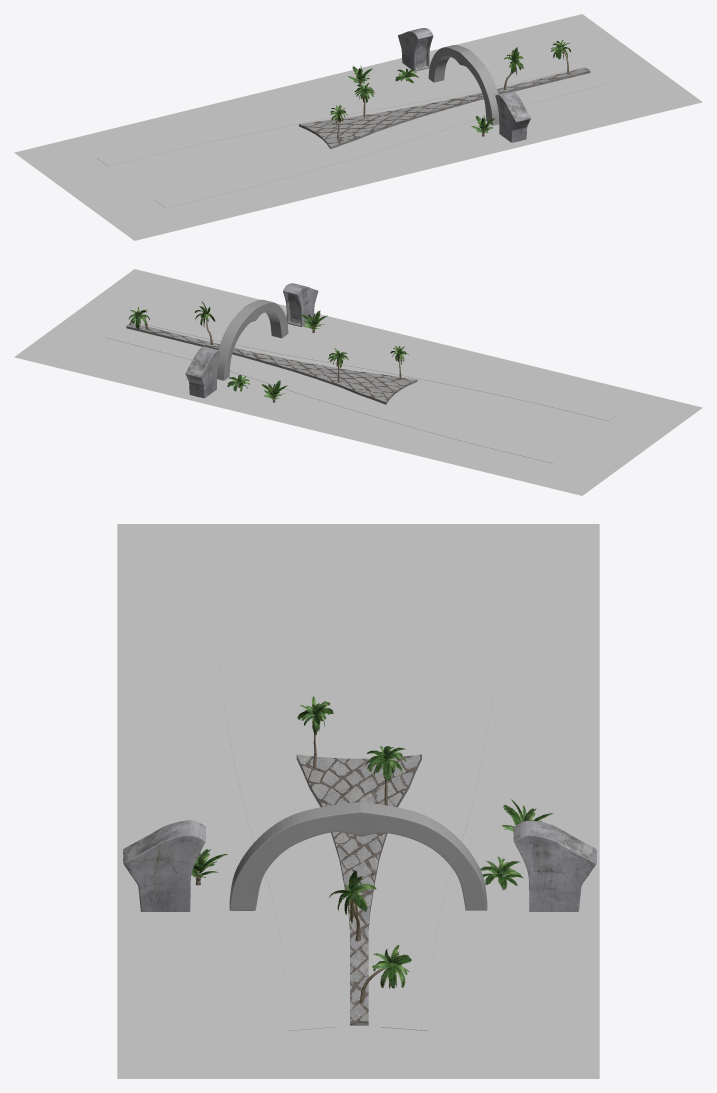
The model's file is americana.obj.
3 renders of one model, top to bottom at view 1: azimuth 30°, elevation 25°; view 2: azimuth 150°, elevation 25°; view 3: azimuth 270°, elevation 25°, orthographic. The views are drawn at different scales.
Parts seen in each view (by area): view 1: Plane, Plane.002, Plane.001, Cube.002_Cube.007, Cylinder, Cube_Cube.003, Cube.001_Cube.005; view 2: Plane, Plane.001, Plane.002, Cube.002_Cube.007, Cylinder, Cube.001_Cube.005, Cube_Cube.003; view 3: Plane, Plane.001, Plane.002, Cylinder, Cube.002_Cube.007, Cube.001_Cube.005, Cube_Cube.003, polySurface343, polySurface336.
Part boxes in pixels (<box>): Plane: <box>14,14,702,240</box>; Plane.002: <box>96,57,583,166</box>; Plane.001: <box>154,75,610,208</box>; Cube.002_Cube.007: <box>299,67,590,149</box>; Cylinder: <box>428,45,499,125</box>; Cube_Cube.003: <box>495,91,530,142</box>; Cube.001_Cube.005: <box>398,28,433,71</box>; Plane: <box>14,269,702,495</box>; Plane.001: <box>135,312,620,421</box>; Plane.002: <box>106,330,563,463</box>; Cube.002_Cube.007: <box>126,323,417,404</box>; Cylinder: <box>217,299,288,380</box>; Cube.001_Cube.005: <box>185,346,220,398</box>; Cube_Cube.003: <box>283,283,318,326</box>; Plane: <box>117,524,599,1078</box>; Plane.001: <box>219,579,335,1030</box>; Plane.002: <box>380,579,496,1030</box>; Cylinder: <box>229,802,487,910</box>; Cube.002_Cube.007: <box>296,754,421,1025</box>; Cube.001_Cube.005: <box>513,820,596,911</box>; Cube_Cube.003: <box>123,820,205,911</box>; polySurface343: <box>372,945,411,988</box>; polySurface336: <box>329,870,376,922</box>.
Bounding box in the file's own units: 73.86 × 6.34 × 27.15.
